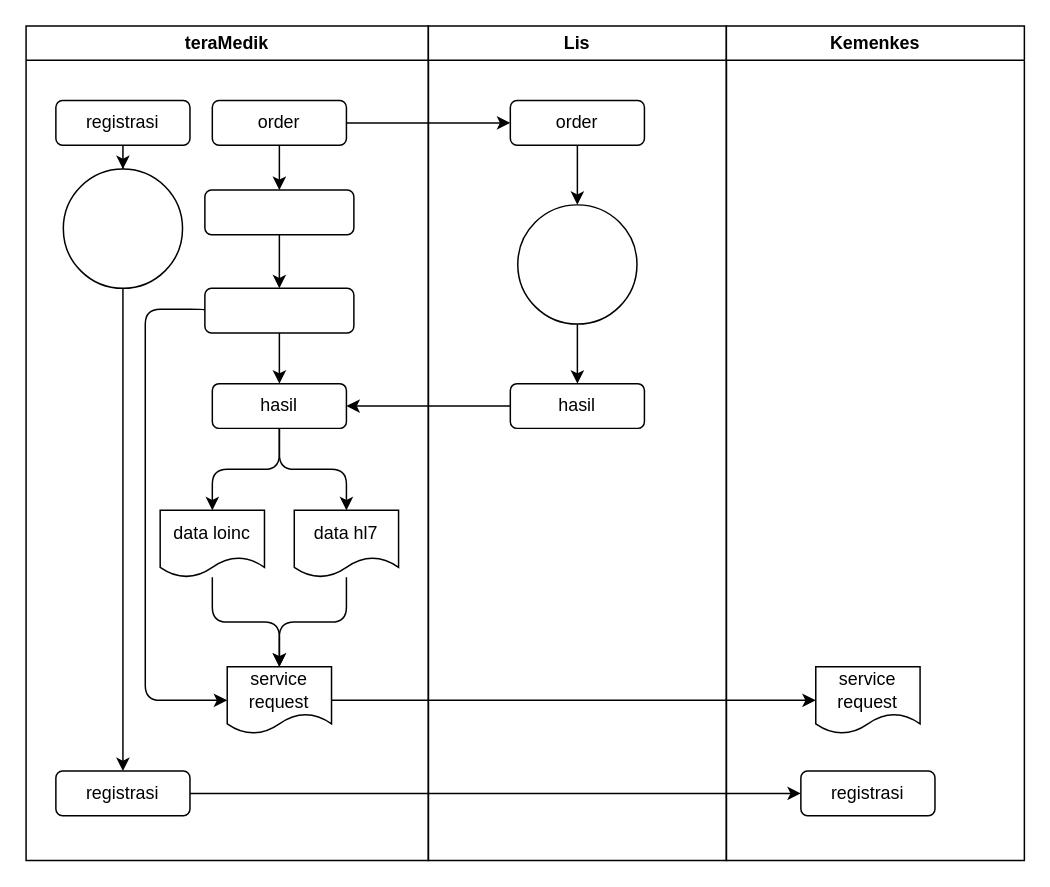
Some shapes in this 1050 by 887 pixel diagram are drawn without their labels. Each missing label, with the centre of its shape:
auto confirm: the point at 278,310
diproses: the point at 576,263
discharge: the point at 122,228
pilih dokter lab: the point at 278,211
